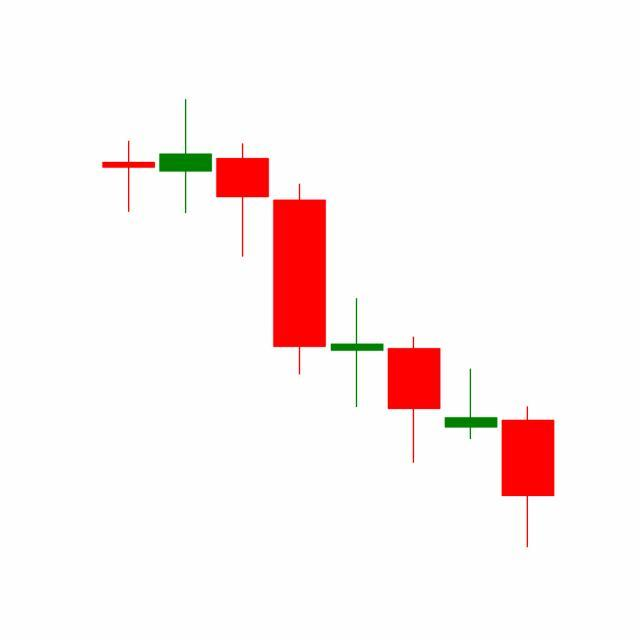Hikkake Pattern: (270, 179, 555, 548)
